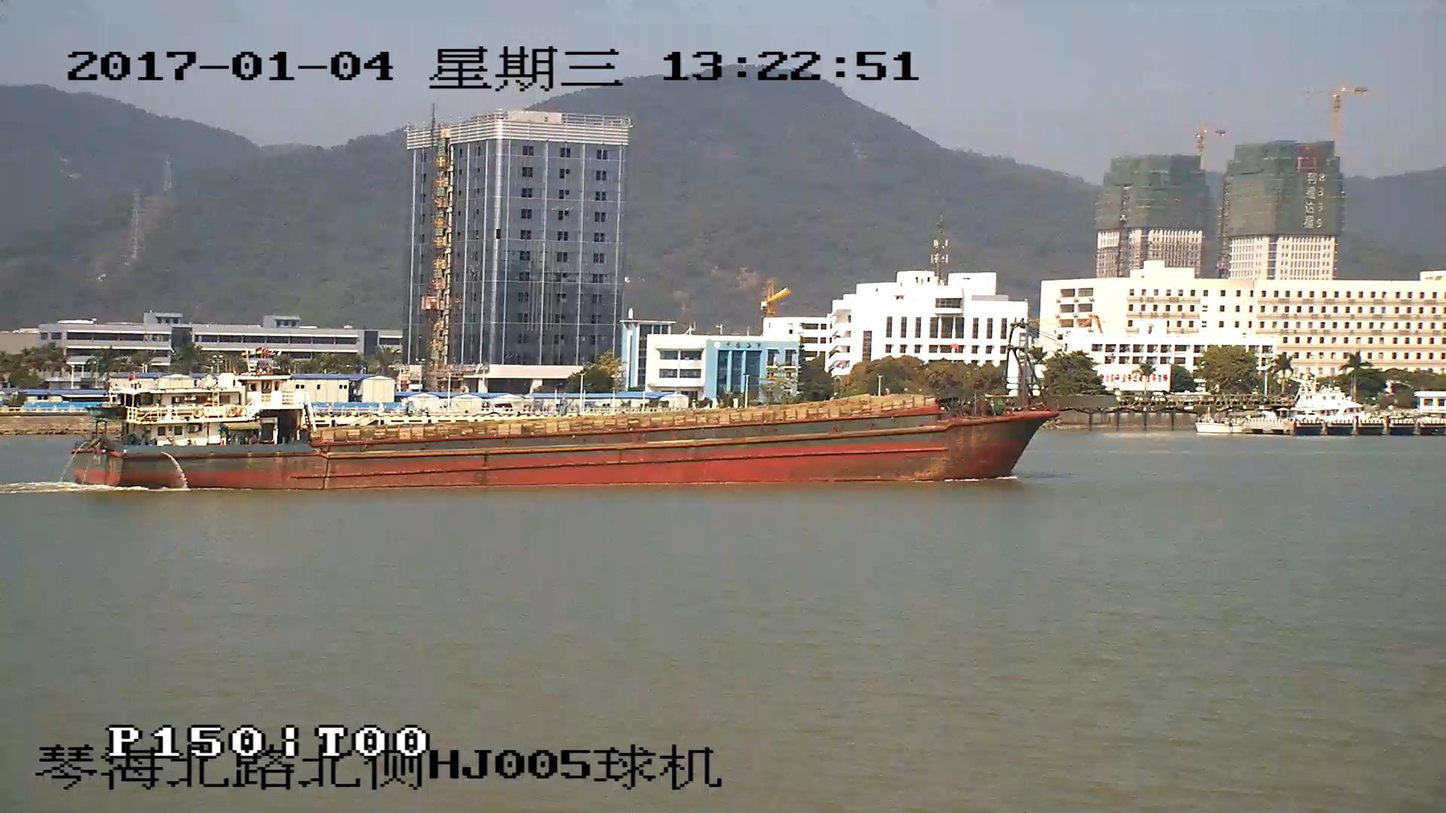bulk cargo carrier: (70, 320, 1154, 486)
